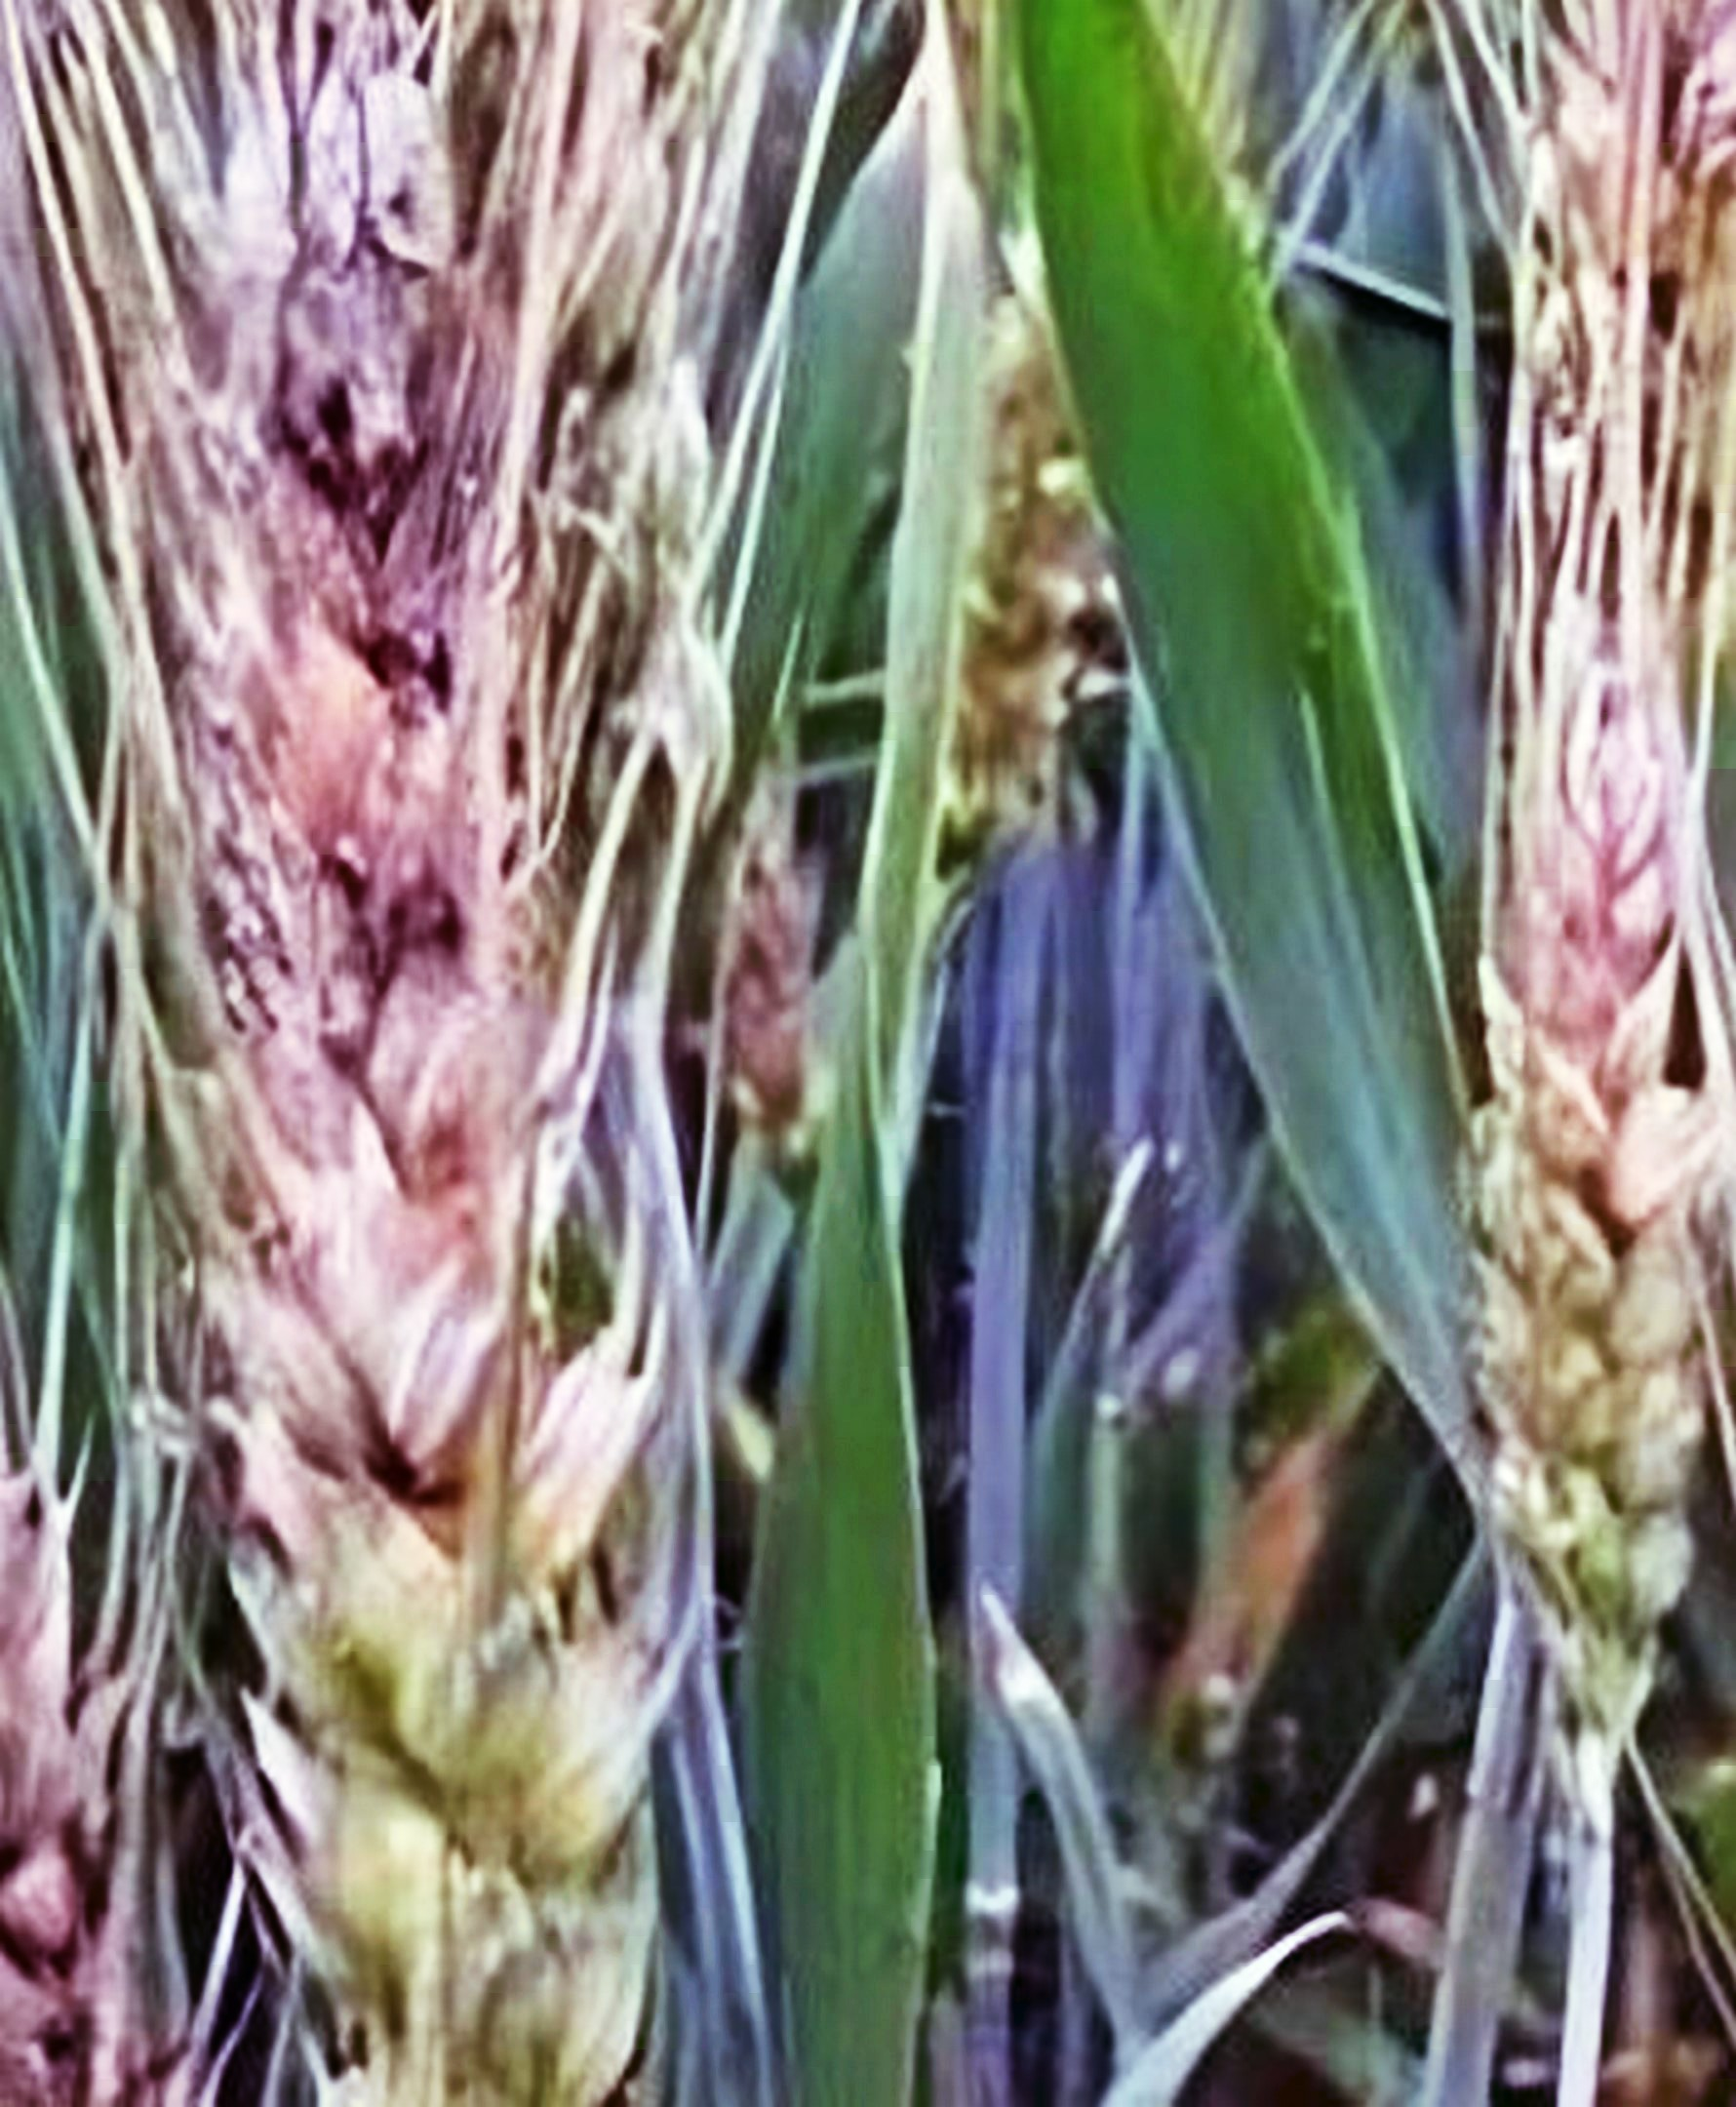Wheat scab: (1430, 551, 1736, 1690)
